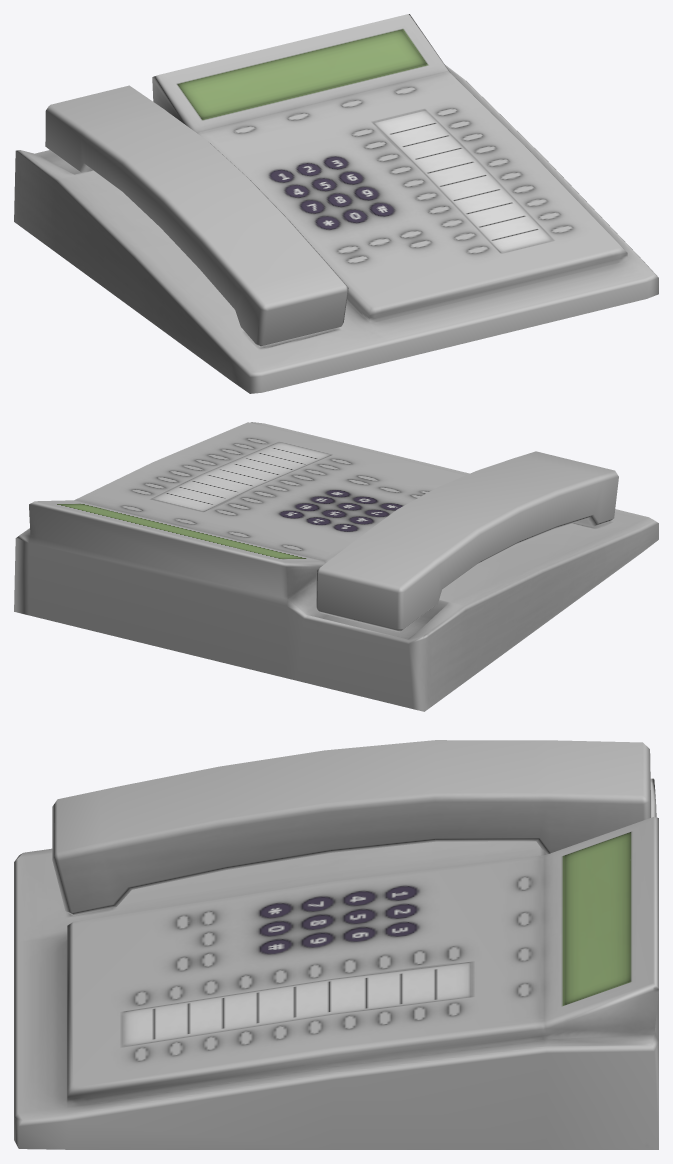
The model's file is Telephone.fbx.
3 views of the same model, one above another, from view 1: azimuth 30°, elevation 25°; view 2: azimuth 150°, elevation 25°; view 3: azimuth 270°, elevation 25° (orthographic). The views are drawn at different scales.
Visible parts, largest first — view 1: pCube2, pCube7; view 2: pCube2, pCube7; view 3: pCube2, pCube7.
Boxes of the visible parts, x1=… form: pCube2: x1=14, y1=14, x2=658, y2=393; pCube7: x1=45, y1=85, x2=348, y2=346; pCube2: x1=14, y1=422, x2=658, y2=711; pCube7: x1=316, y1=451, x2=618, y2=632; pCube2: x1=14, y1=778, x2=658, y2=1149; pCube7: x1=52, y1=740, x2=650, y2=915.
Bounding box in the file's own units: 1.95 × 0.5239 × 1.95.
Materials: 1 (1 with a texture image).
